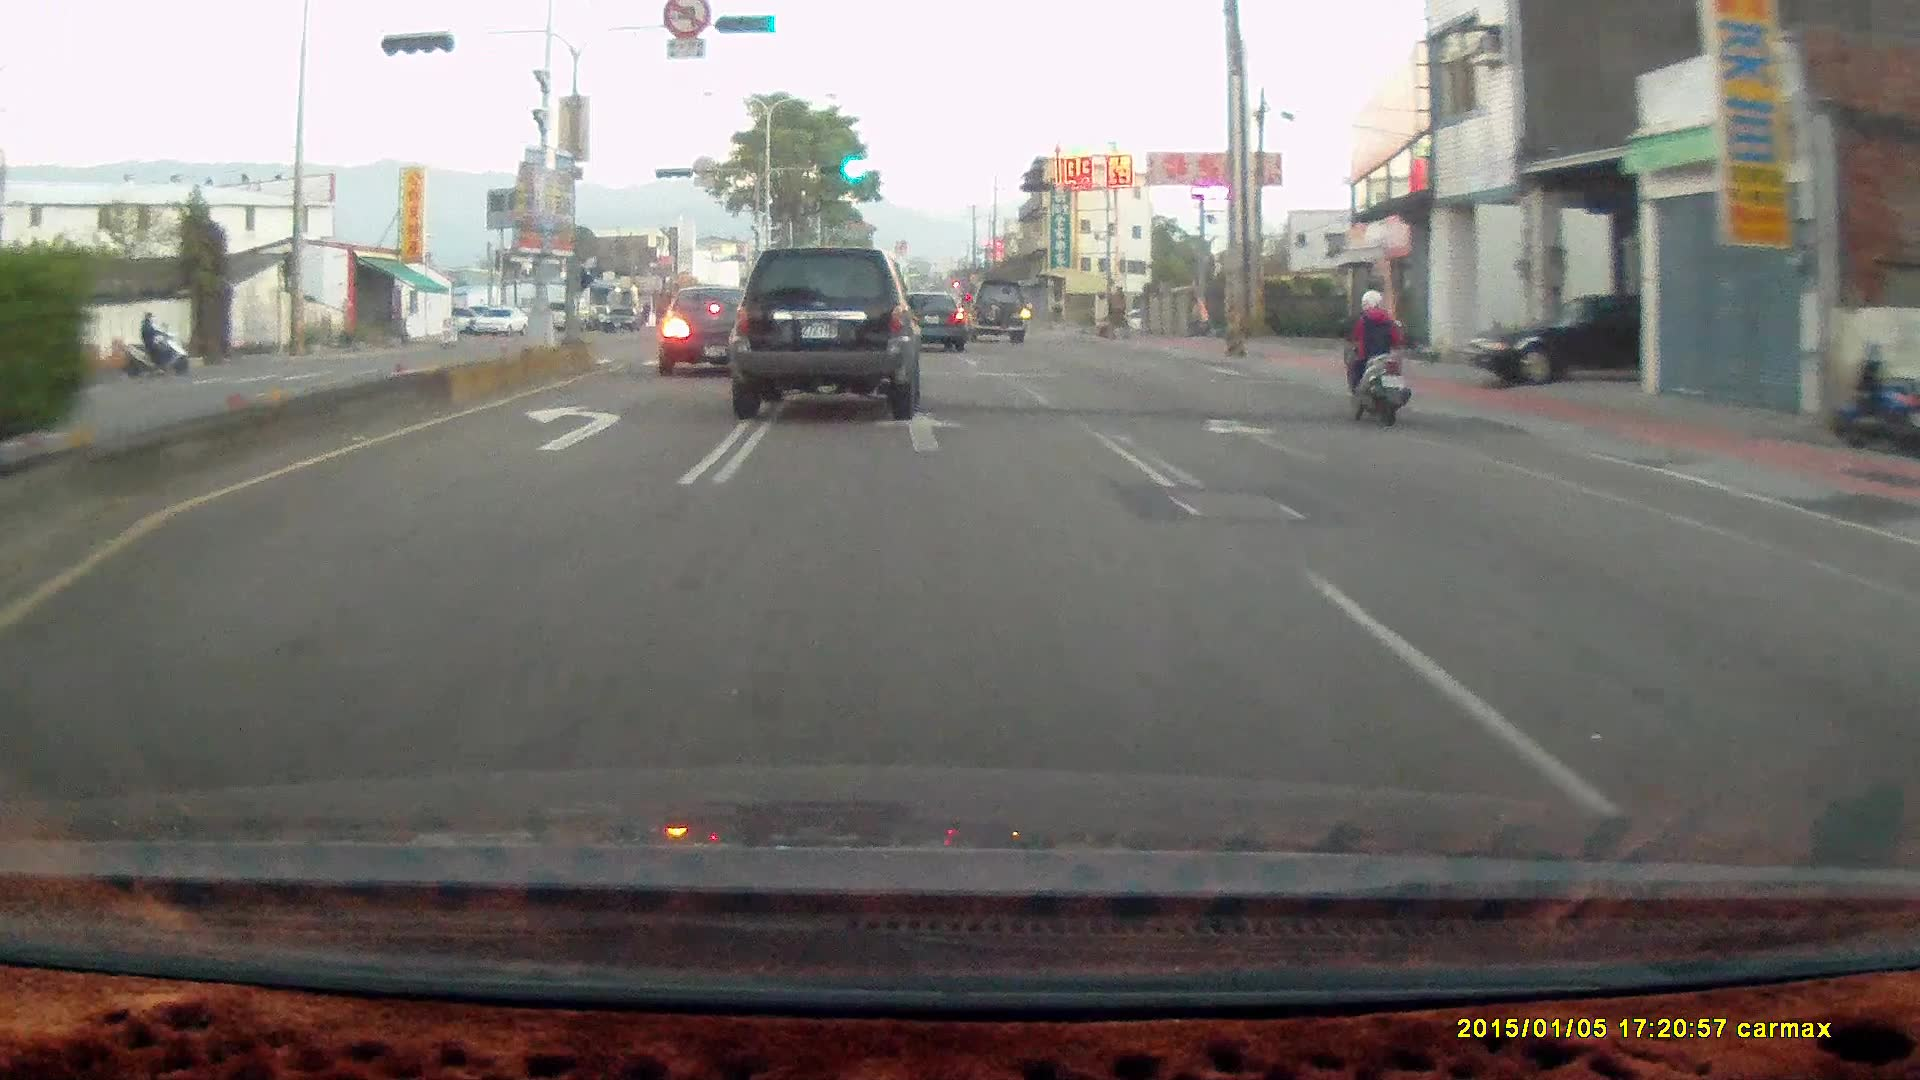rider: (1327, 280, 1423, 436), (1334, 286, 1410, 422), (110, 308, 194, 380)
vehicle: (734, 252, 931, 435), (729, 247, 928, 420), (1462, 293, 1725, 387), (1468, 293, 1655, 387), (661, 286, 771, 377), (660, 285, 769, 375), (889, 290, 965, 352), (895, 290, 968, 352), (962, 279, 1030, 346), (961, 278, 1027, 341), (469, 303, 531, 335), (532, 300, 586, 328), (602, 305, 640, 330)
